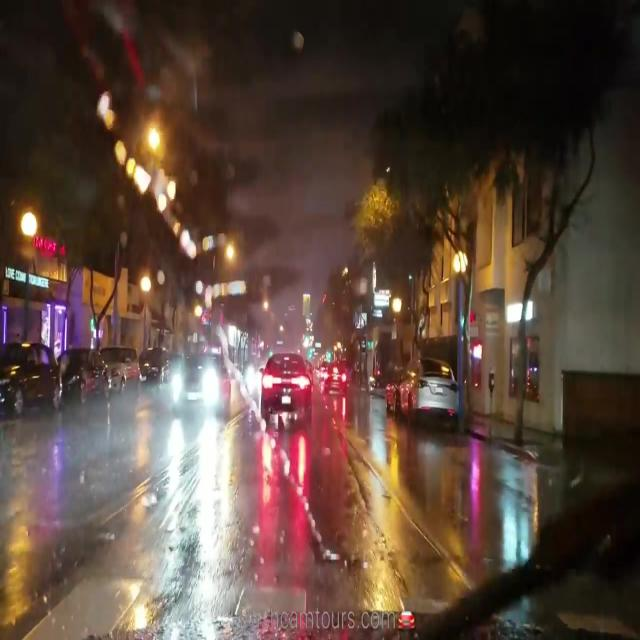Car: (391, 359, 458, 427), (3, 340, 64, 414), (165, 357, 231, 418), (259, 349, 308, 421), (57, 346, 103, 409), (103, 338, 137, 406)
